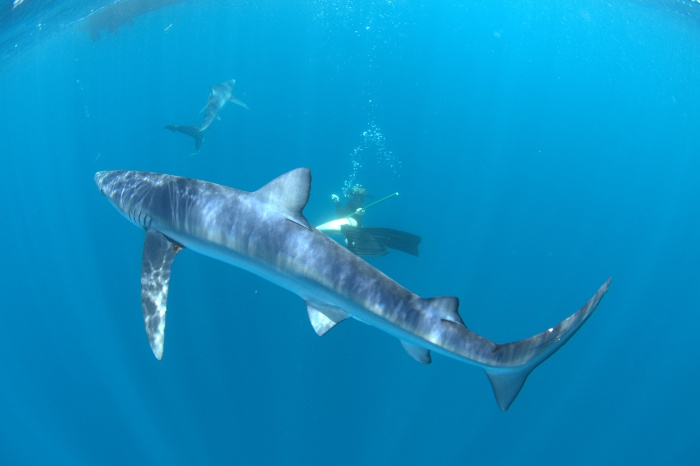Azul: (87, 140, 642, 437)
